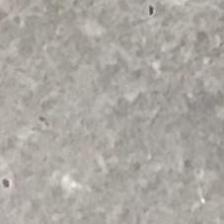Non_Crack: (19, 40, 224, 202)
